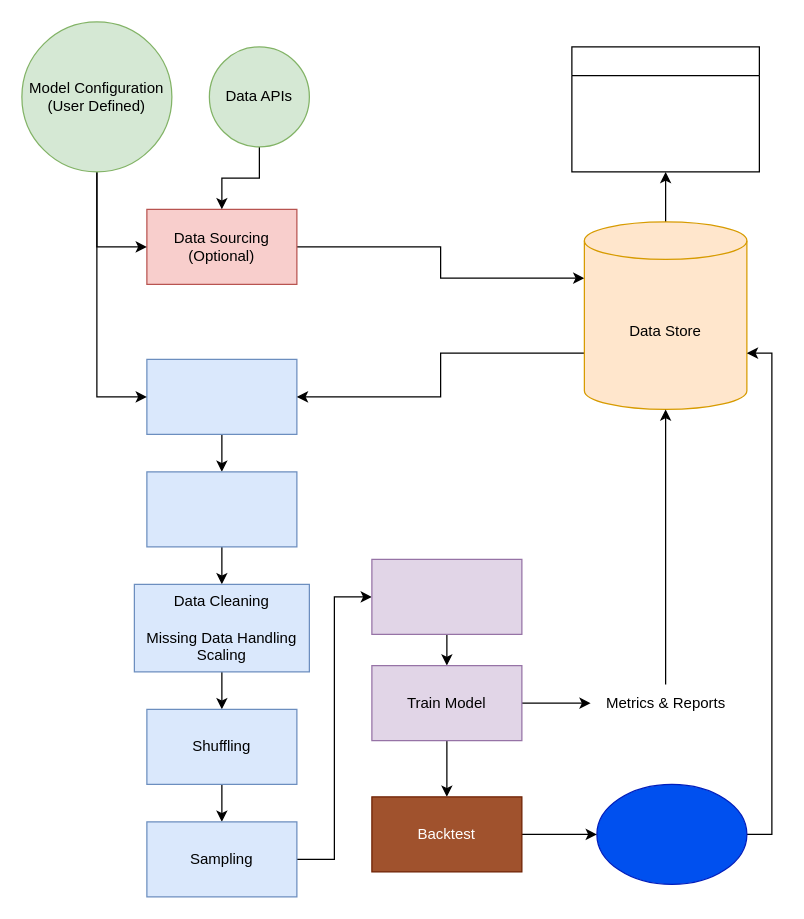
This 804x919 diagram has some shape labels left out. The shapes that lost their labels are listed below. From the top down, each one's centre as x and y in pixels, then its label:
At point (665, 109): "Njord UI".
At point (221, 396): "Data Loading".
At point (221, 509): "Feature Extraction".
At point (446, 596): "Hyperparameter Search".
At point (671, 833): "Model".
